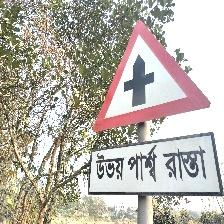Crossroad: (88, 16, 224, 196)
